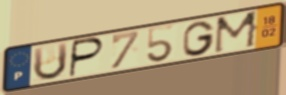5: (145, 22, 179, 64)
7: (110, 30, 141, 72)
G: (182, 19, 217, 57)
M: (212, 8, 261, 55)
P: (67, 36, 107, 80)
U: (32, 41, 70, 83)
